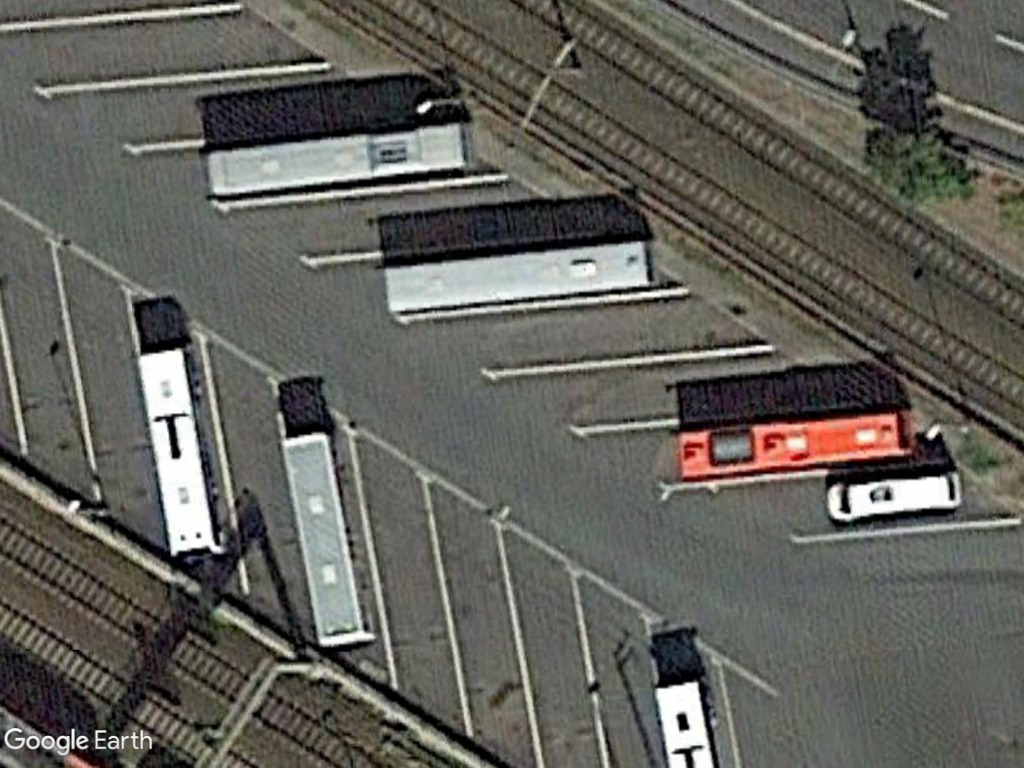bus: (196, 116, 478, 218), (370, 239, 655, 332), (274, 424, 376, 651), (127, 340, 226, 563), (670, 406, 919, 486)
van: (817, 466, 967, 530)
